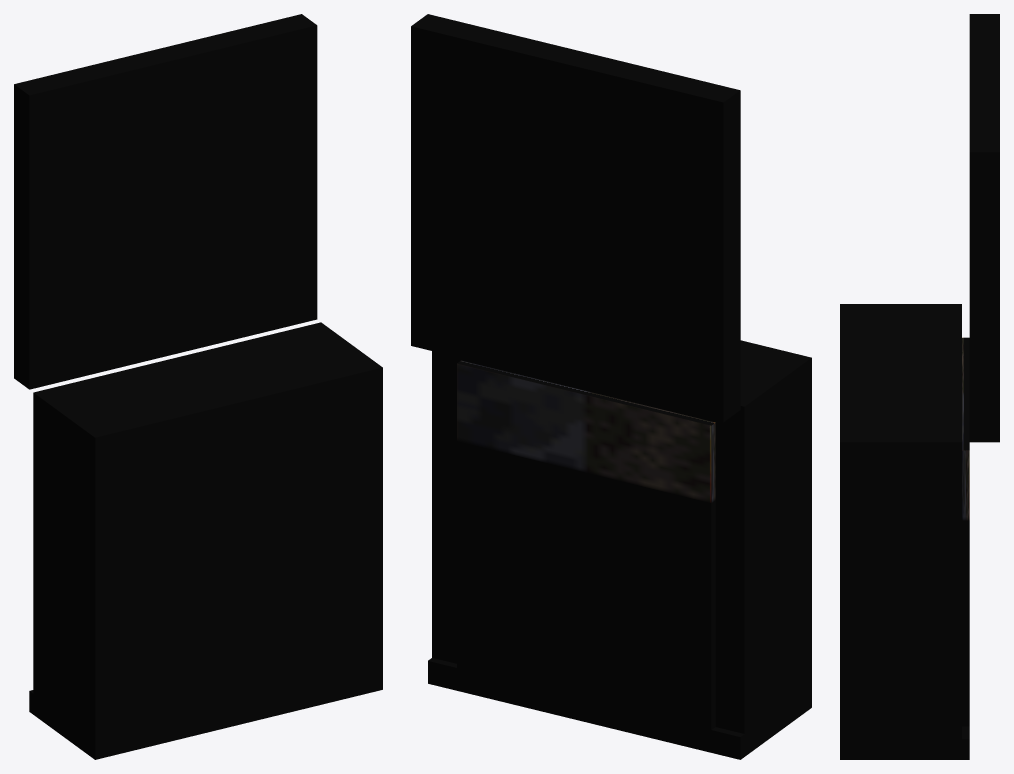
The model's file is SM_dumbwaiter.fbx.
3 views of the same model, side by side, from view 1: azimuth 30°, elevation 25°; view 2: azimuth 150°, elevation 25°; view 3: azimuth 270°, elevation 25° (orthographic). The views are drawn at different scales.
Parts seen in each view (by area): view 1: dumbwaiter; view 2: dumbwaiter, dumbwaiter_shutter; view 3: dumbwaiter, dumbwaiter_shutter.
Boxes of the visible parts, x1,y1,x2,y2 form: dumbwaiter: (14,14,382,759); dumbwaiter: (411,14,811,759); dumbwaiter_shutter: (457,360,715,729); dumbwaiter: (840,14,999,759); dumbwaiter_shutter: (962,337,969,726).
Size of the model in its own units: 0.86 by 1.76 by 0.42.
